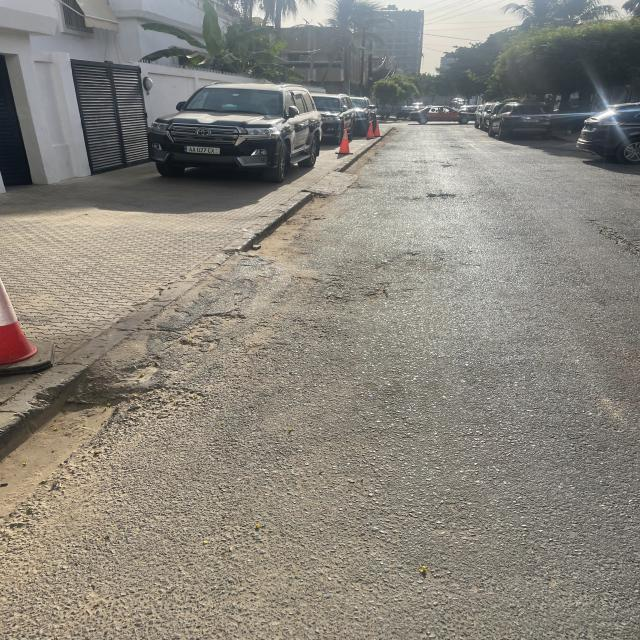particulier: (148, 84, 323, 184), (578, 104, 640, 166), (489, 104, 553, 141), (313, 95, 358, 145), (351, 97, 378, 137), (476, 104, 506, 132), (396, 107, 418, 121)
taxi: (409, 107, 471, 125)
